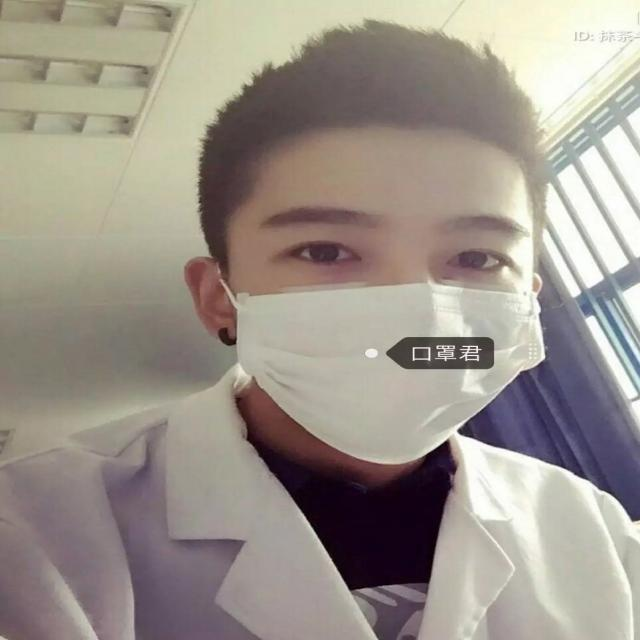mask: (236, 143, 547, 466)
